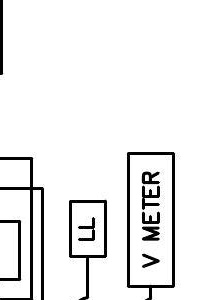LL: (68, 199, 108, 259)
v_m_digital: (126, 151, 176, 289)
